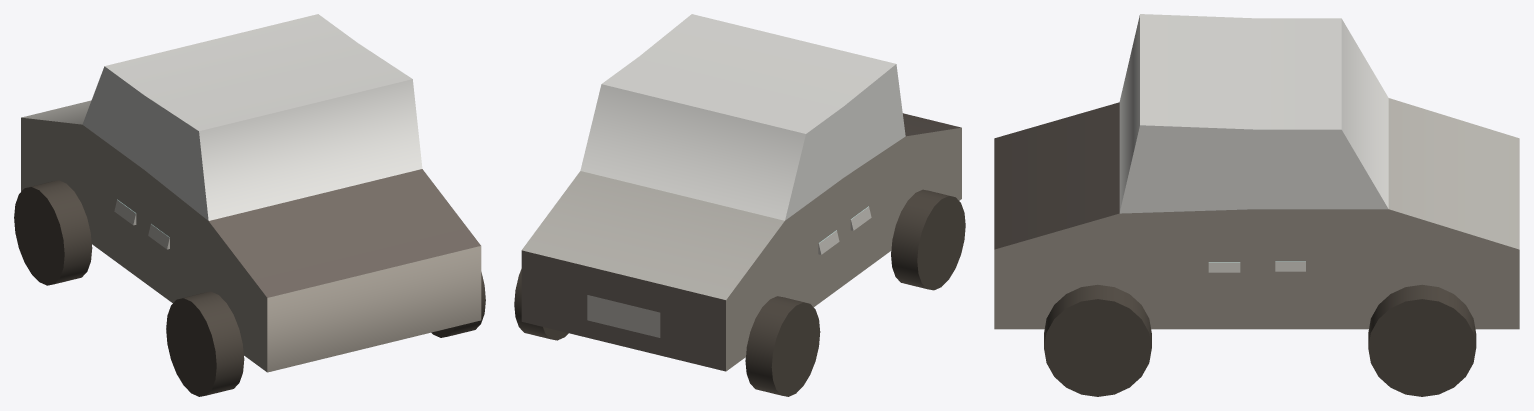
The model's file is Car.fbx.
3 renders of one model, left to right at view 1: azimuth 30°, elevation 25°; view 2: azimuth 150°, elevation 25°; view 3: azimuth 270°, elevation 25°, orthographic. The views are drawn at different scales.
Parts seen in each view (by area): view 1: Car; view 2: Car; view 3: Car.
Part boxes in pixels (<box>): Car: <box>14,14,485,396</box>; Car: <box>514,14,965,396</box>; Car: <box>994,14,1519,396</box>.
Bounding box in the file's own units: 0.8377 × 0.7171 × 1.33.
